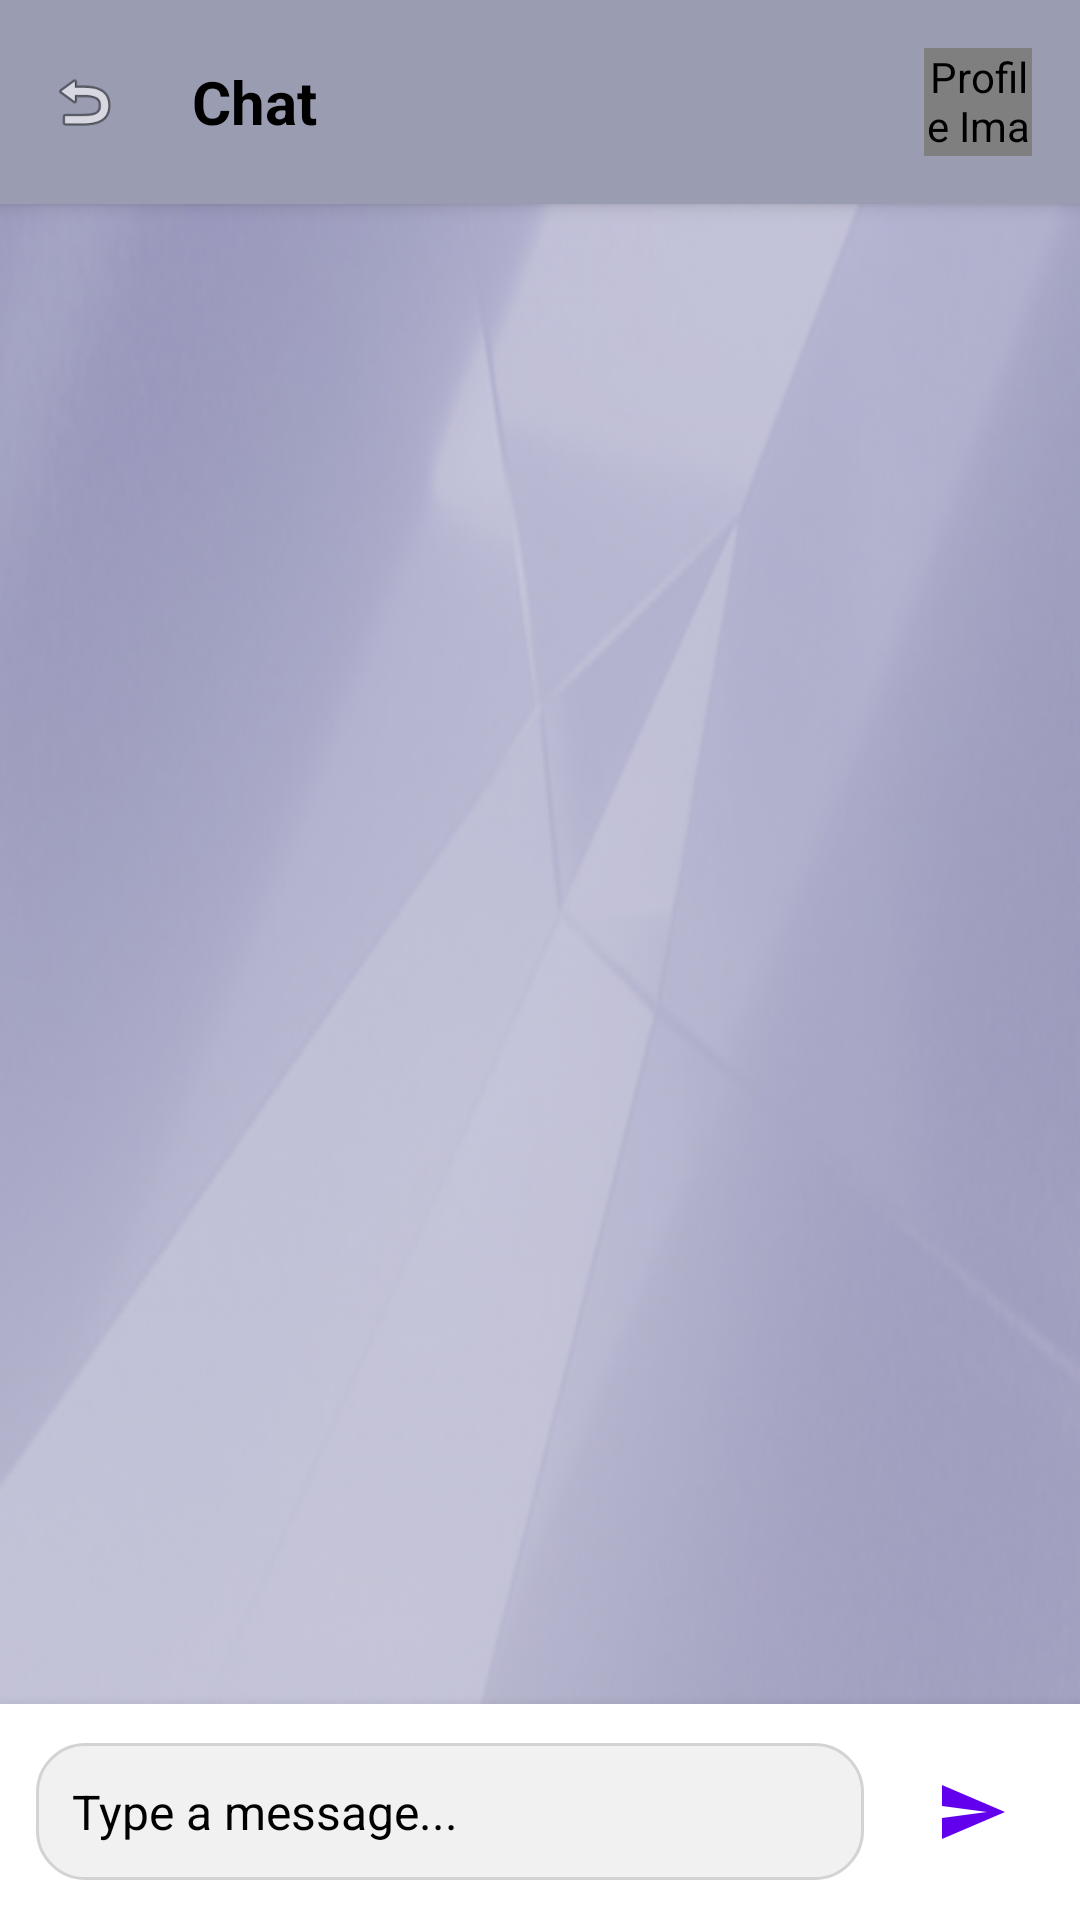

Where icons sit on this 1080 x 1920 app screen, as (x1, y1, x2, y2):
Back: (59, 79, 111, 126)
Send Message: (942, 1785, 1005, 1839)
